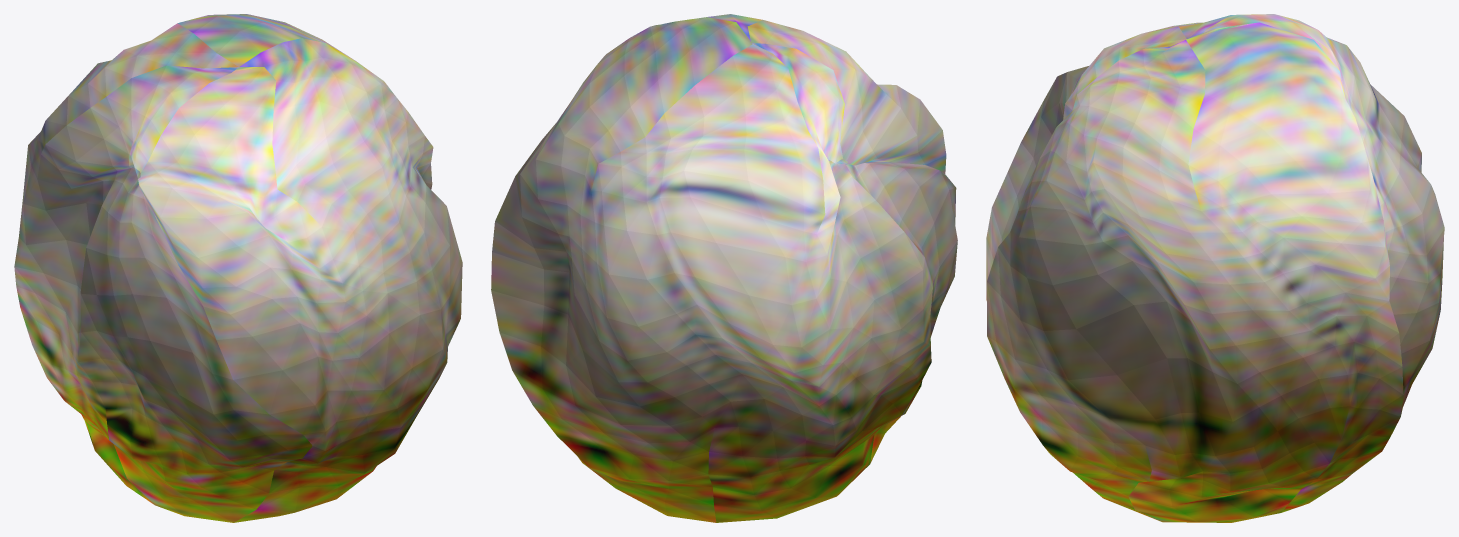
The picture shows the model from 3 angles, left to right: view 1: azimuth 30°, elevation 25°; view 2: azimuth 150°, elevation 25°; view 3: azimuth 270°, elevation 25°; orthographic projection. The views are drawn at different scales.
Parts seen in each view (by area): view 1: pMesh1; view 2: pMesh1; view 3: pMesh1.
Boxes of the visible parts, x1,y1,x2,y2 form: pMesh1: (14,14,462,522); pMesh1: (491,14,957,522); pMesh1: (986,14,1444,522).
Size of the model in its own units: 2.38 by 2.87 by 2.54.
Materials: 1 (1 with a texture image).
